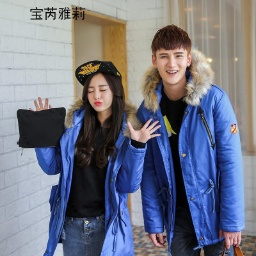face: (78, 70, 126, 130), (150, 25, 193, 86)
